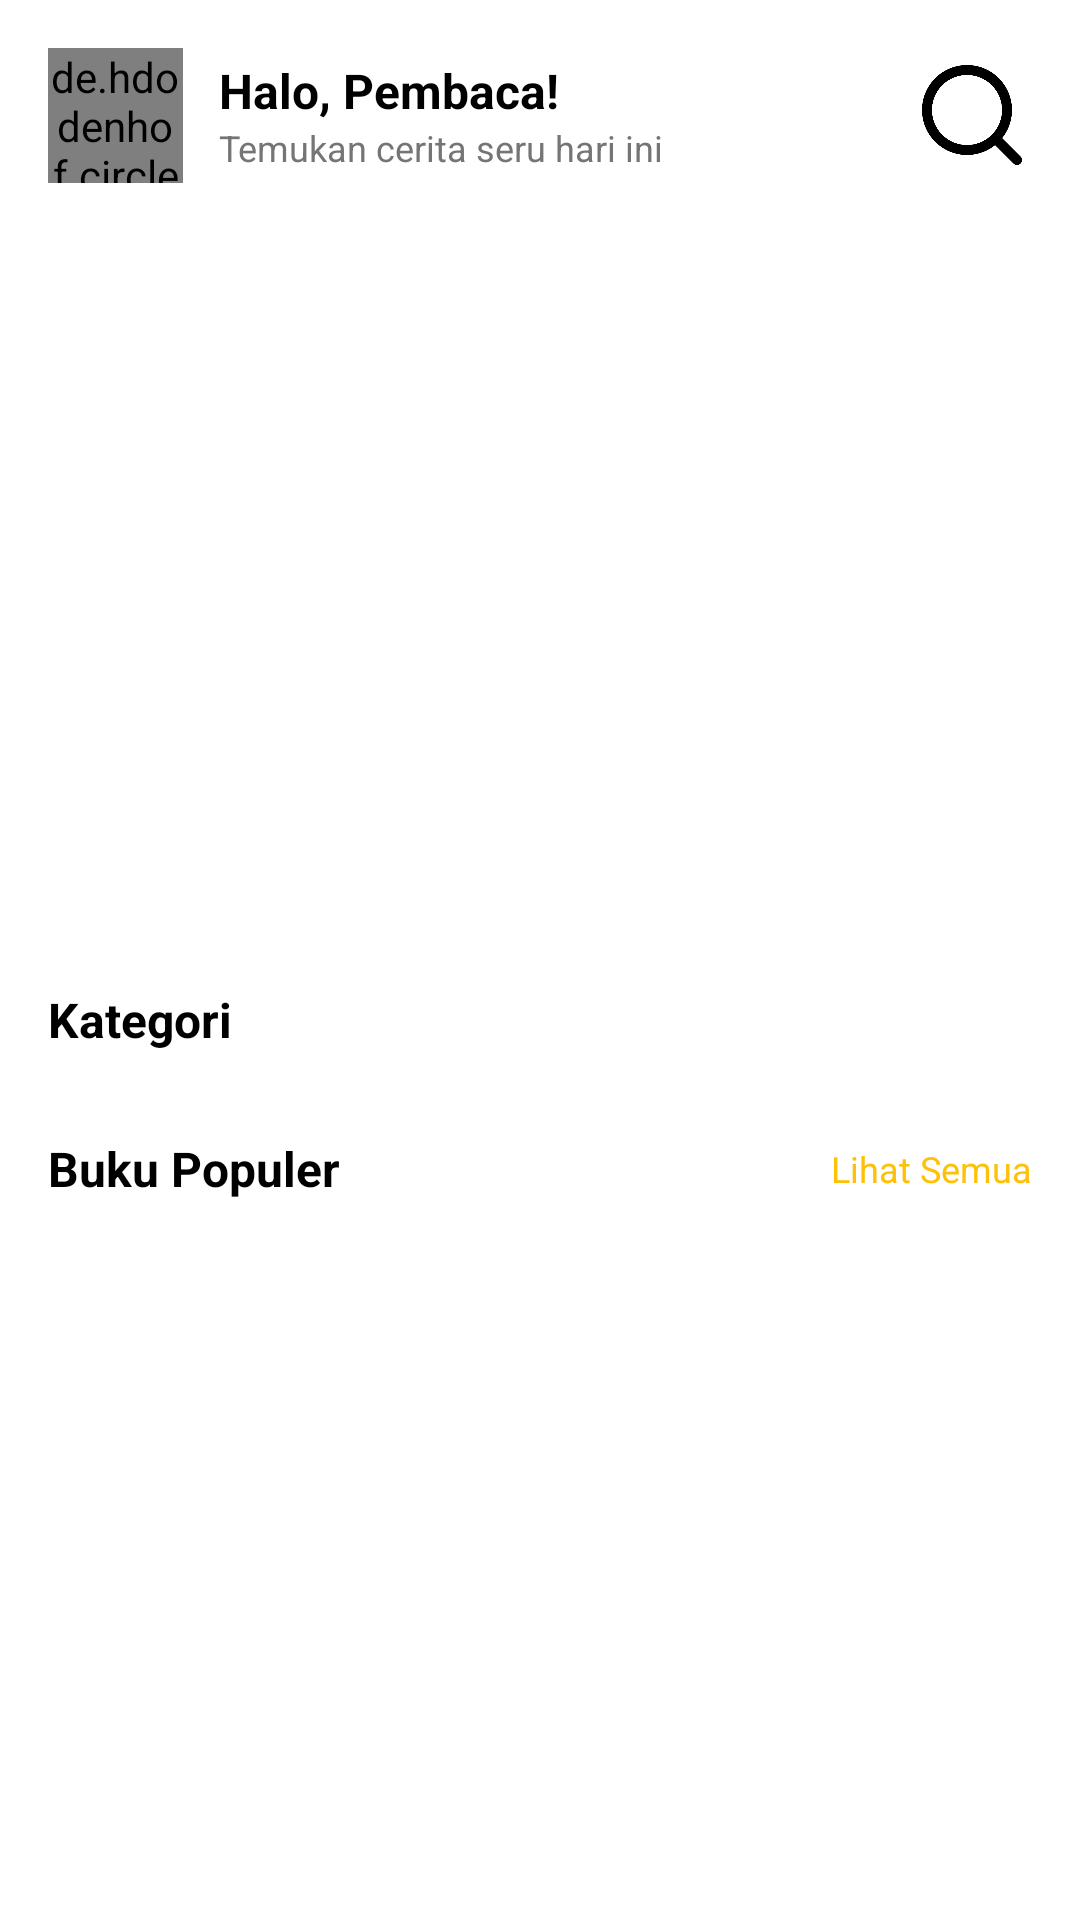

Named icons in this screenshot (1080×1920) and their bounding boxes, {"left": x1, "top": y1, "right": x2, "bottom": y2}:
search: {"left": 922, "top": 65, "right": 1022, "bottom": 165}
